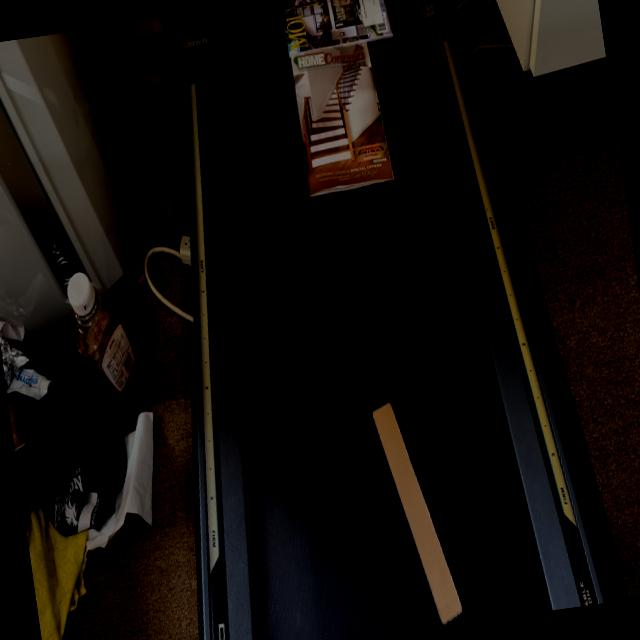Recycle: (371, 394, 478, 632), (279, 0, 409, 191)
